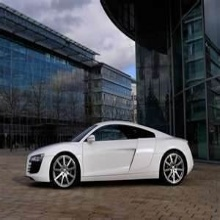no damage: (24, 119, 194, 190)
